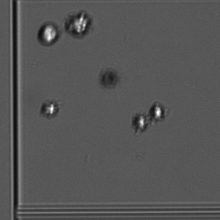Dead Cell: (95, 65, 124, 94)
Living Cell: (64, 8, 98, 42), (35, 19, 66, 50), (37, 98, 62, 123), (147, 101, 171, 125), (130, 113, 151, 134)
